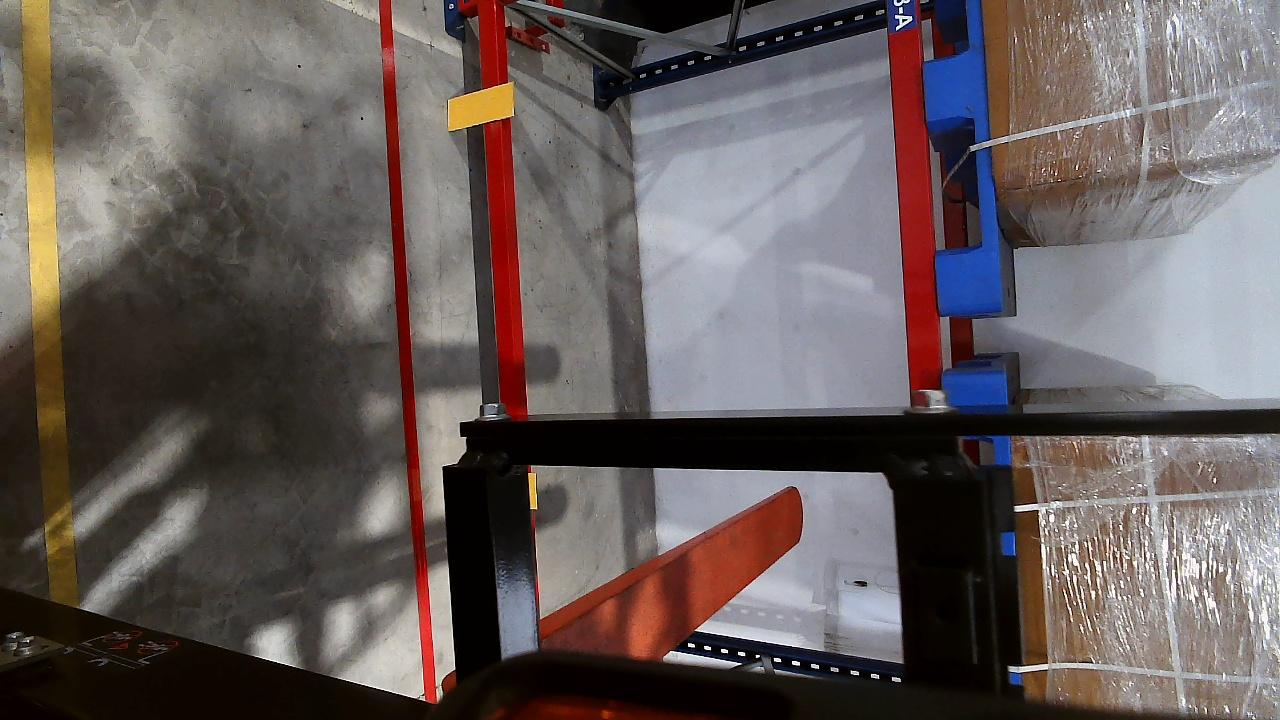h_rack: (882, 0, 944, 404), (472, 5, 526, 415)
orange_strip: (447, 83, 514, 130)
red_line: (383, 42, 430, 659)
small_pallet: (917, 1, 1007, 307)
yellow_line: (18, 3, 75, 599)
